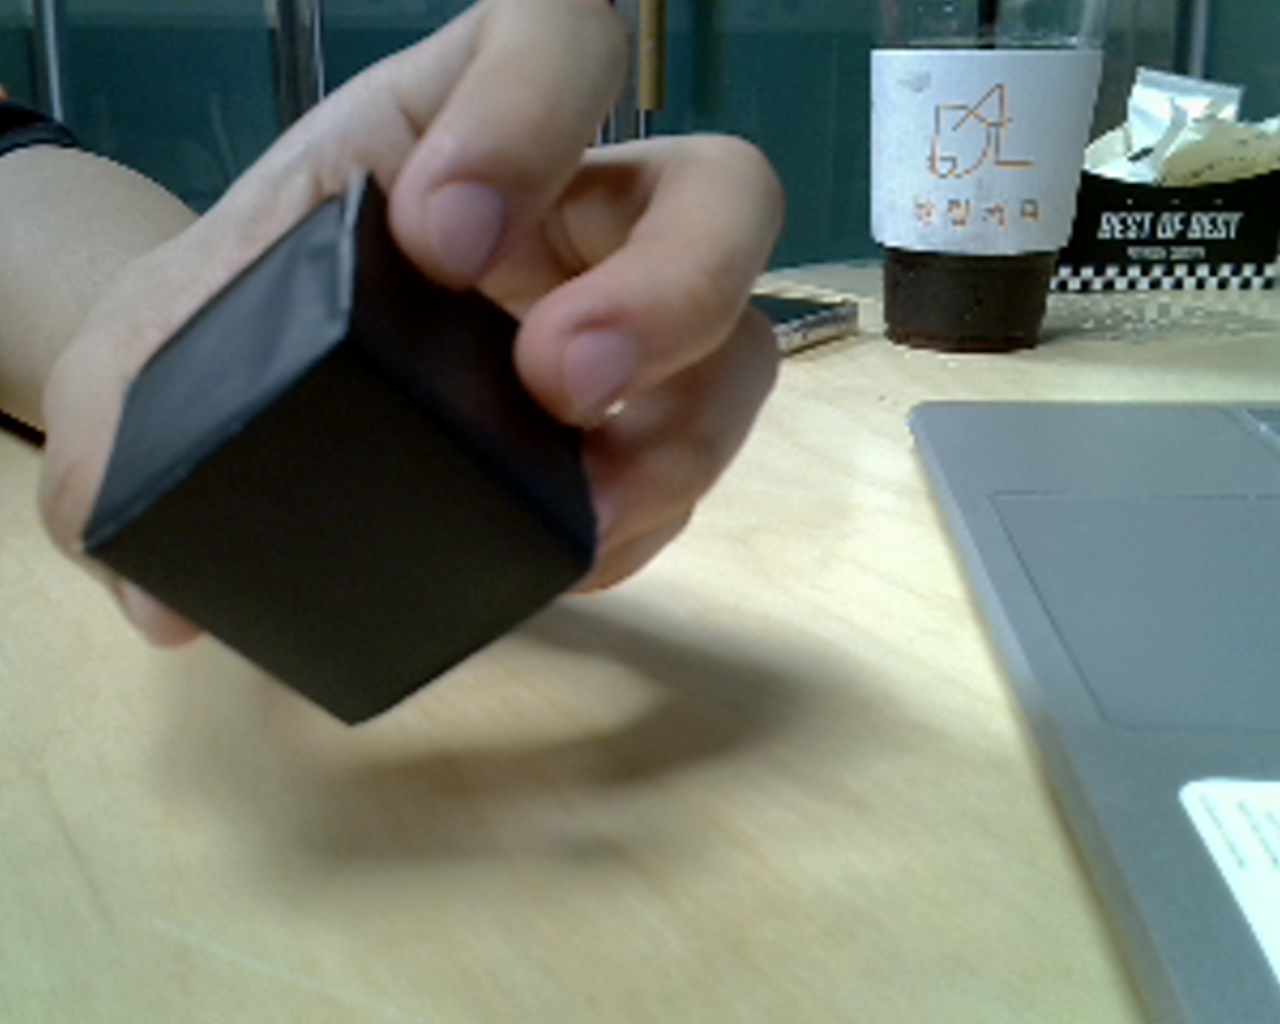blackbox: (44, 147, 644, 765)
